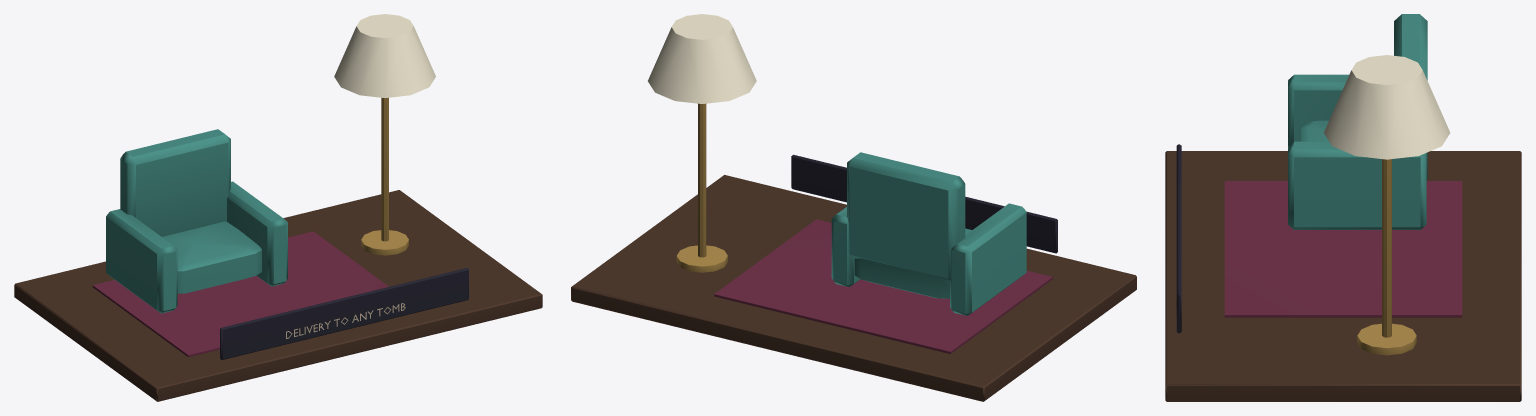
File: display_showroom.glb
The picture shows the model from 3 angles, left to right: view 1: azimuth 30°, elevation 25°; view 2: azimuth 150°, elevation 25°; view 3: azimuth 270°, elevation 25°; orthographic projection. The views are drawn at different scales.
Visible parts, largest first — view 1: display_showroom; view 2: display_showroom; view 3: display_showroom.
Boxes of the visible parts, x1,y1,x2,y2 form: display_showroom: (14,14,542,401); display_showroom: (571,14,1136,401); display_showroom: (1165,14,1521,401).
Size of the model in its own units: 2.8 by 1.62 by 1.8.
